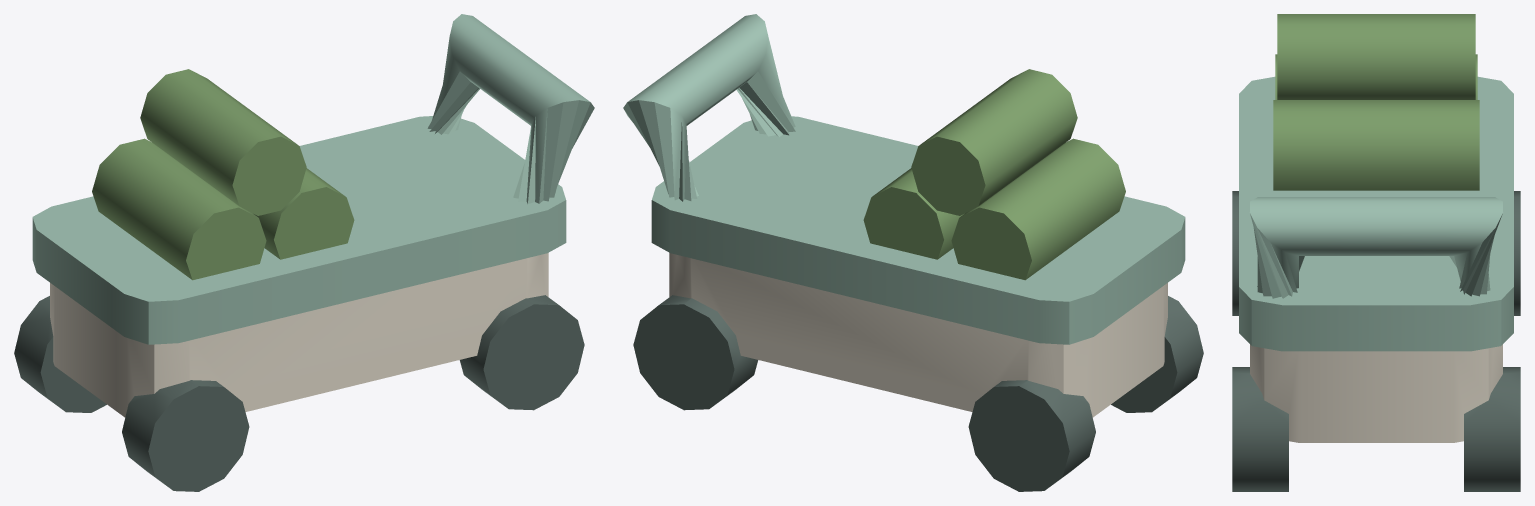
File: towel-cart.glb
3 views of the same model, side by side, from view 1: azimuth 30°, elevation 25°; view 2: azimuth 150°, elevation 25°; view 3: azimuth 270°, elevation 25° (orthographic). The views are drawn at different scales.
Parts seen in each view (by area): view 1: towel-cart; view 2: towel-cart; view 3: towel-cart.
Part boxes in pixels (<box>): towel-cart: <box>14,14,594,491</box>; towel-cart: <box>623,14,1203,491</box>; towel-cart: <box>1232,14,1520,491</box>.
Size of the model in its own units: 2.91 by 1.9 by 1.47.
Materials: 2 (2 with a texture image).
